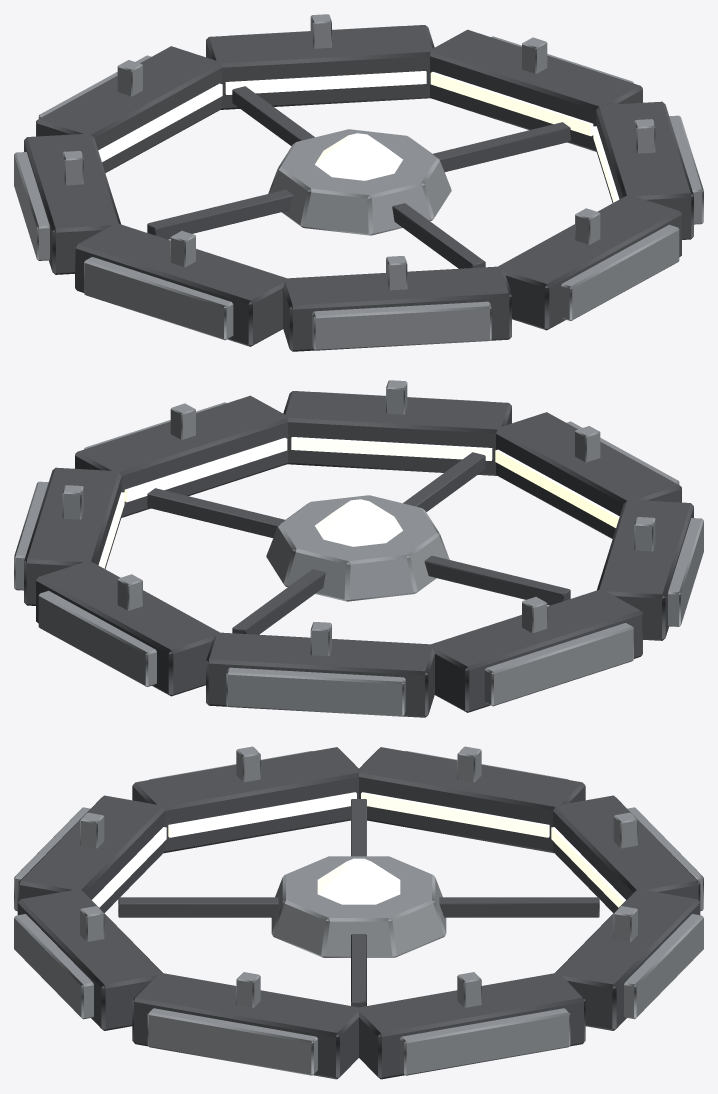
Rendered from SM_SB_Kit_ReactorCrown.fbx.
3 views of the same model, one above another, from view 1: azimuth 30°, elevation 25°; view 2: azimuth 150°, elevation 25°; view 3: azimuth 270°, elevation 25° (orthographic).
Parts seen in each view (by area): view 1: SM_SB_Kit_ReactorCrown; view 2: SM_SB_Kit_ReactorCrown; view 3: SM_SB_Kit_ReactorCrown.
Part boxes in pixels (bbox=[...]): SM_SB_Kit_ReactorCrown: bbox=[14, 14, 703, 351]; SM_SB_Kit_ReactorCrown: bbox=[14, 380, 703, 717]; SM_SB_Kit_ReactorCrown: bbox=[14, 746, 703, 1079].
Bounding box in the file's own units: 2150 × 2150 × 260.
